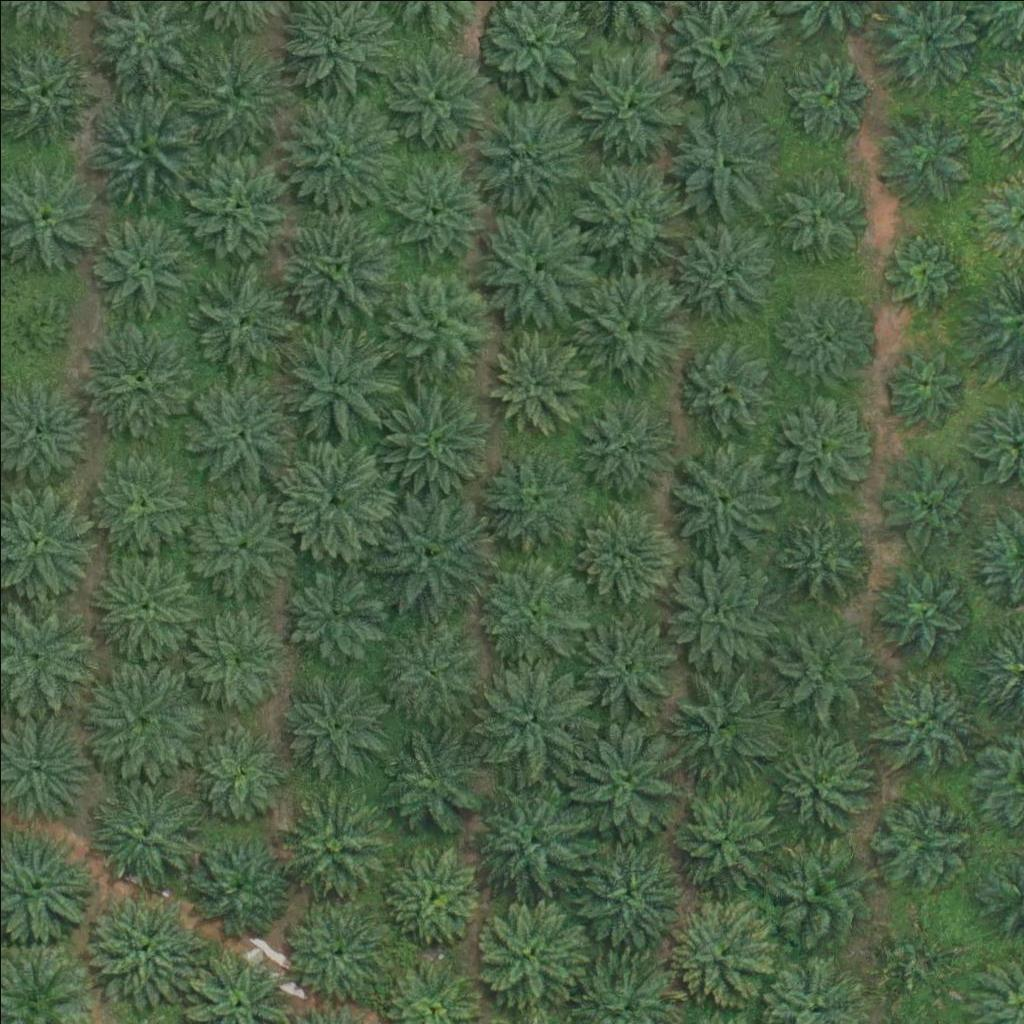Kelapa_Sawit: (473, 896, 586, 1010), (372, 724, 485, 838), (383, 268, 496, 382), (278, 210, 391, 324), (278, 92, 391, 206), (179, 36, 292, 150), (760, 830, 873, 943), (85, 891, 198, 1004), (88, 775, 201, 888), (83, 661, 196, 774), (276, 442, 389, 555), (279, 330, 392, 443), (375, 612, 488, 725), (370, 493, 483, 606), (377, 381, 490, 494), (475, 781, 588, 894), (473, 659, 586, 772), (668, 557, 781, 670), (668, 441, 781, 554), (670, 329, 783, 442), (669, 216, 782, 329), (663, 103, 776, 216), (573, 48, 686, 161), (279, 789, 391, 903), (83, 546, 195, 660), (280, 665, 392, 779), (178, 146, 290, 260), (663, 894, 775, 1007), (566, 841, 678, 954), (281, 892, 393, 1005), (81, 321, 193, 434), (182, 484, 294, 597), (178, 374, 290, 487), (473, 553, 585, 666), (475, 440, 587, 553), (568, 722, 680, 835), (571, 611, 683, 724), (668, 778, 780, 891), (665, 663, 777, 776), (863, 663, 975, 776), (578, 270, 690, 383), (575, 154, 687, 267), (476, 210, 588, 323), (470, 98, 582, 211), (377, 43, 489, 156), (184, 265, 296, 378), (86, 89, 198, 202), (190, 836, 290, 937), (484, 333, 584, 434), (576, 501, 676, 602), (571, 395, 671, 496), (773, 731, 873, 832), (776, 618, 876, 719), (774, 505, 874, 606), (866, 792, 966, 893), (873, 558, 973, 659), (871, 109, 971, 210), (770, 159, 870, 260), (88, 212, 188, 313), (380, 845, 480, 945), (90, 450, 190, 550), (189, 718, 289, 818), (184, 604, 284, 704), (281, 560, 381, 660), (773, 390, 873, 490), (773, 286, 873, 386), (875, 454, 975, 554), (385, 155, 485, 255), (875, 229, 963, 317), (785, 53, 873, 141), (863, 912, 950, 1001), (888, 346, 963, 422)
